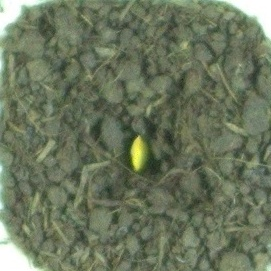chilli seed: (127, 134, 155, 173)
